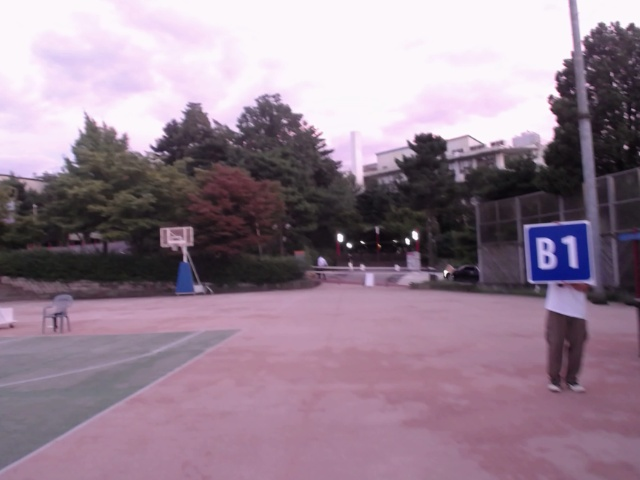delivery_b1: (525, 220, 592, 284)
